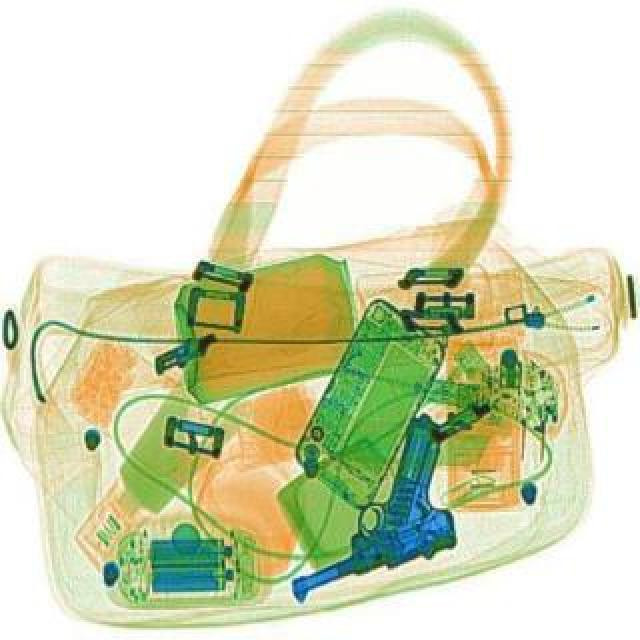gun: (244, 416, 480, 604)
